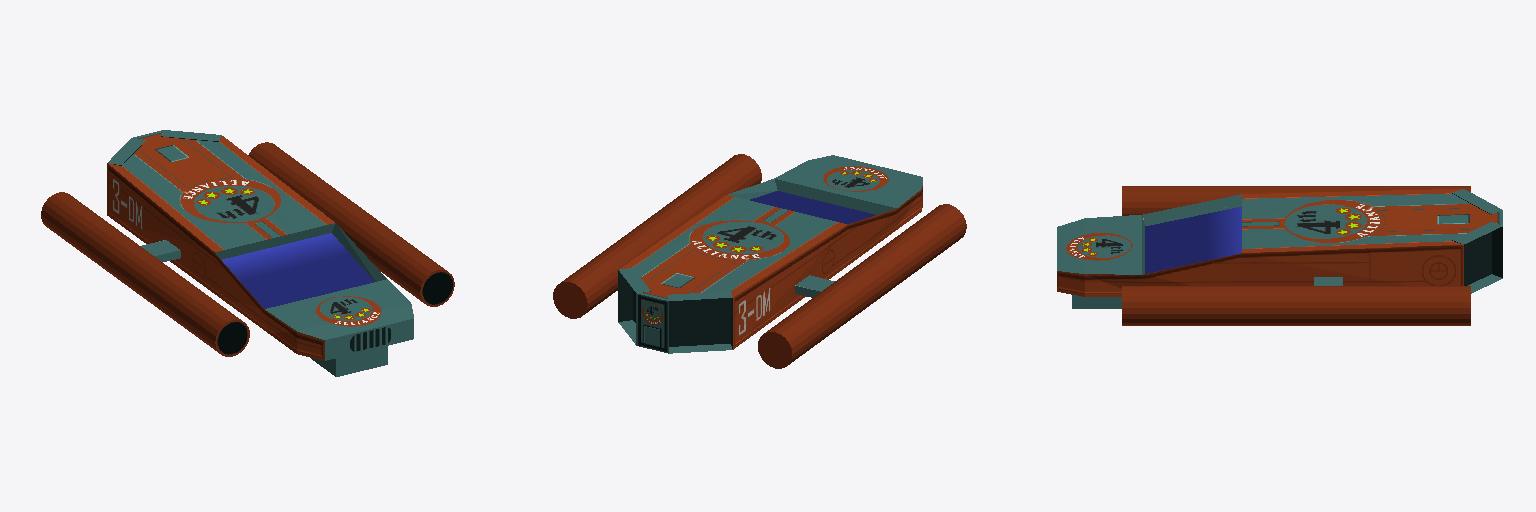
The picture shows the model from 3 angles: view 1: azimuth 30°, elevation 25°; view 2: azimuth 150°, elevation 25°; view 3: azimuth 270°, elevation 25°; orthographic projection.
Visible parts, largest first — view 1: AllyBomber:polySurface1; view 2: AllyBomber:polySurface1; view 3: AllyBomber:polySurface1.
Boxes of the visible parts, box(x1,y1,x2,y2) form: AllyBomber:polySurface1: box(41, 130, 454, 376); AllyBomber:polySurface1: box(553, 154, 966, 368); AllyBomber:polySurface1: box(1057, 186, 1502, 325).
Size of the model in its own units: 4.68 by 1.47 by 7.55.
Materials: 1 (1 with a texture image).